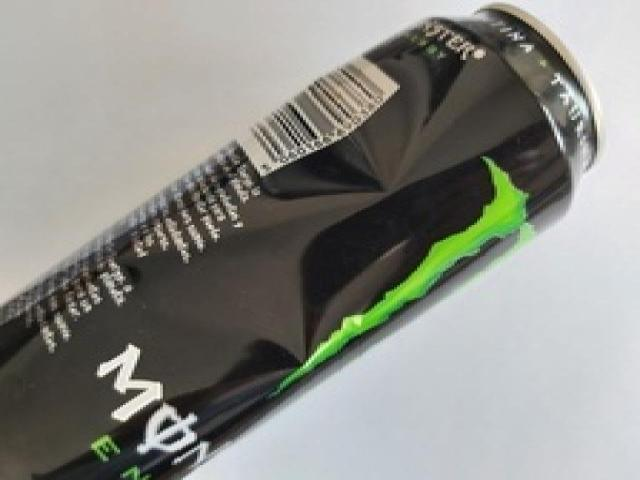Canned_drinks: (0, 4, 604, 480)
